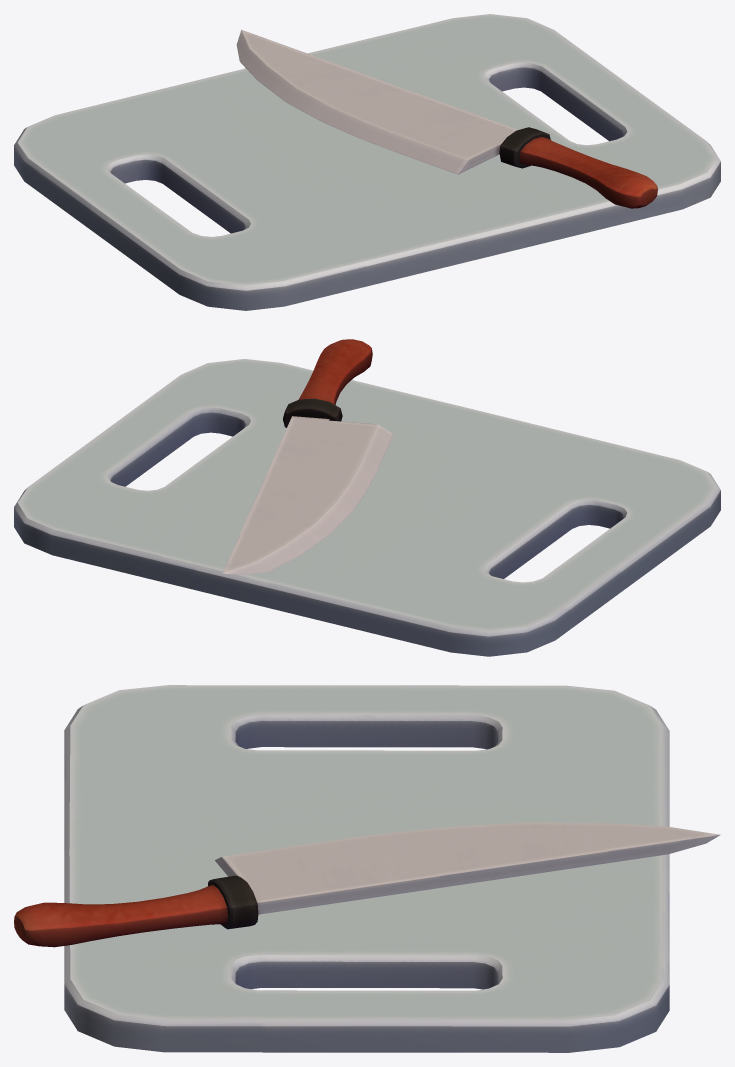
Rendered from cuttingtable.fbx.
3 renders of one model, top to bottom at view 1: azimuth 30°, elevation 25°; view 2: azimuth 150°, elevation 25°; view 3: azimuth 270°, elevation 25°, orthographic. The views are drawn at different scales.
Parts seen in each view (by area): view 1: Knife_cutting; view 2: Knife_cutting; view 3: Knife_cutting.
Boxes of the visible parts, <box> form: Knife_cutting: <box>14,14,720,310</box>; Knife_cutting: <box>14,339,720,656</box>; Knife_cutting: <box>14,685,720,1052</box>.
Size of the model in its own units: 158 by 15.09 by 140.
